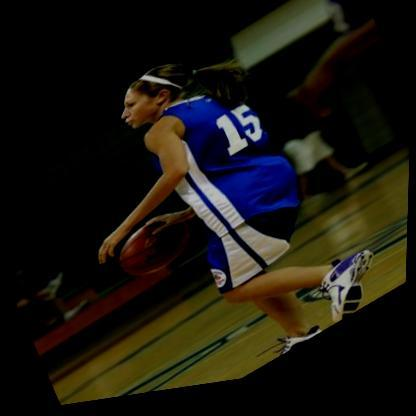basketball: (112, 208, 200, 296)
